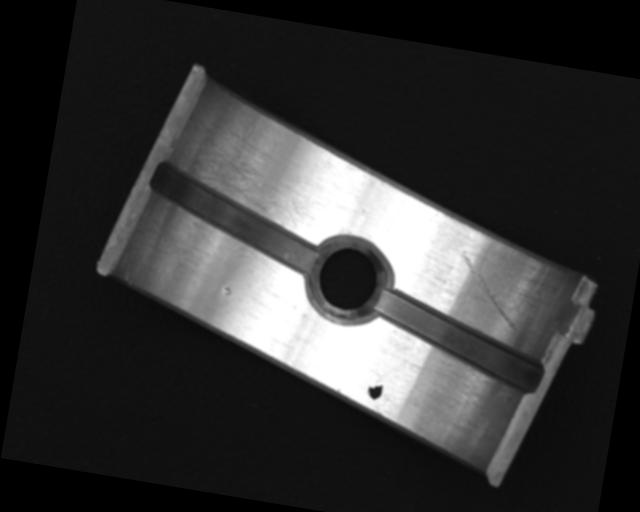blot: (365, 377, 385, 401)
bruise: (221, 285, 233, 297)
gap: (142, 161, 328, 276), (366, 287, 552, 395)
hole: (303, 233, 393, 330)
nick: (449, 249, 528, 331)
scratch: (172, 116, 332, 235)
